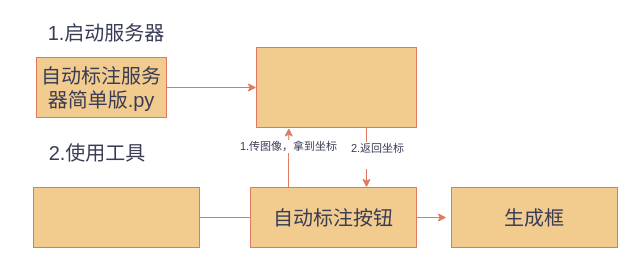
This 635x265 diagram has some shape labels left out. Here are the shapes that lost their labels. From the top down, the centre of each, then its label:
At point (336, 87): "服务：输入图像，输出标注框坐标等".
At point (116, 217): "labelimg_autotool开服务版.py".
